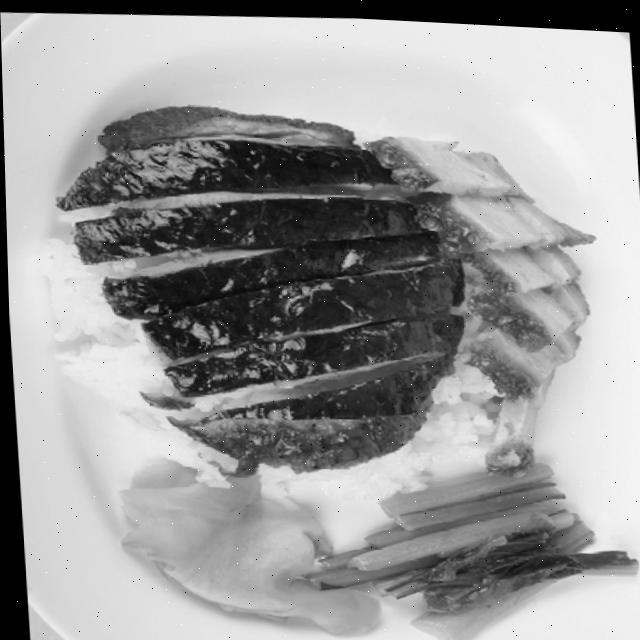米饭主食: (12, 26, 640, 640)
